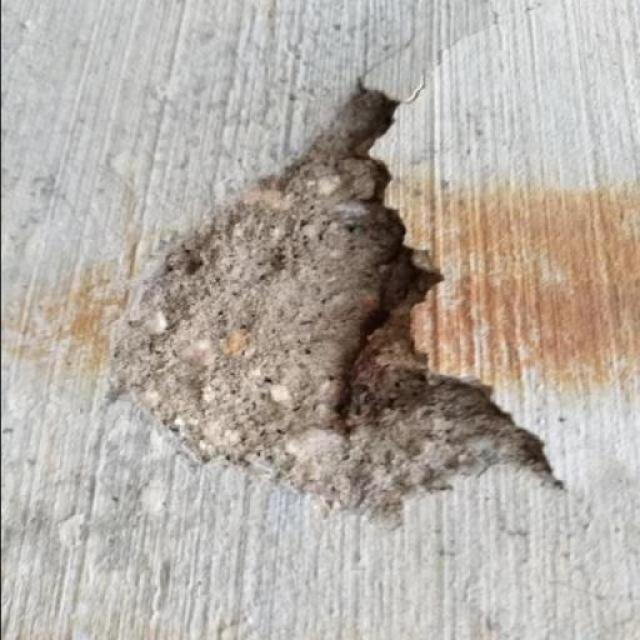D10: (105, 81, 560, 529)
